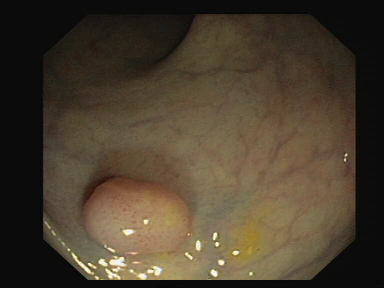polyp: (71, 160, 203, 271)
